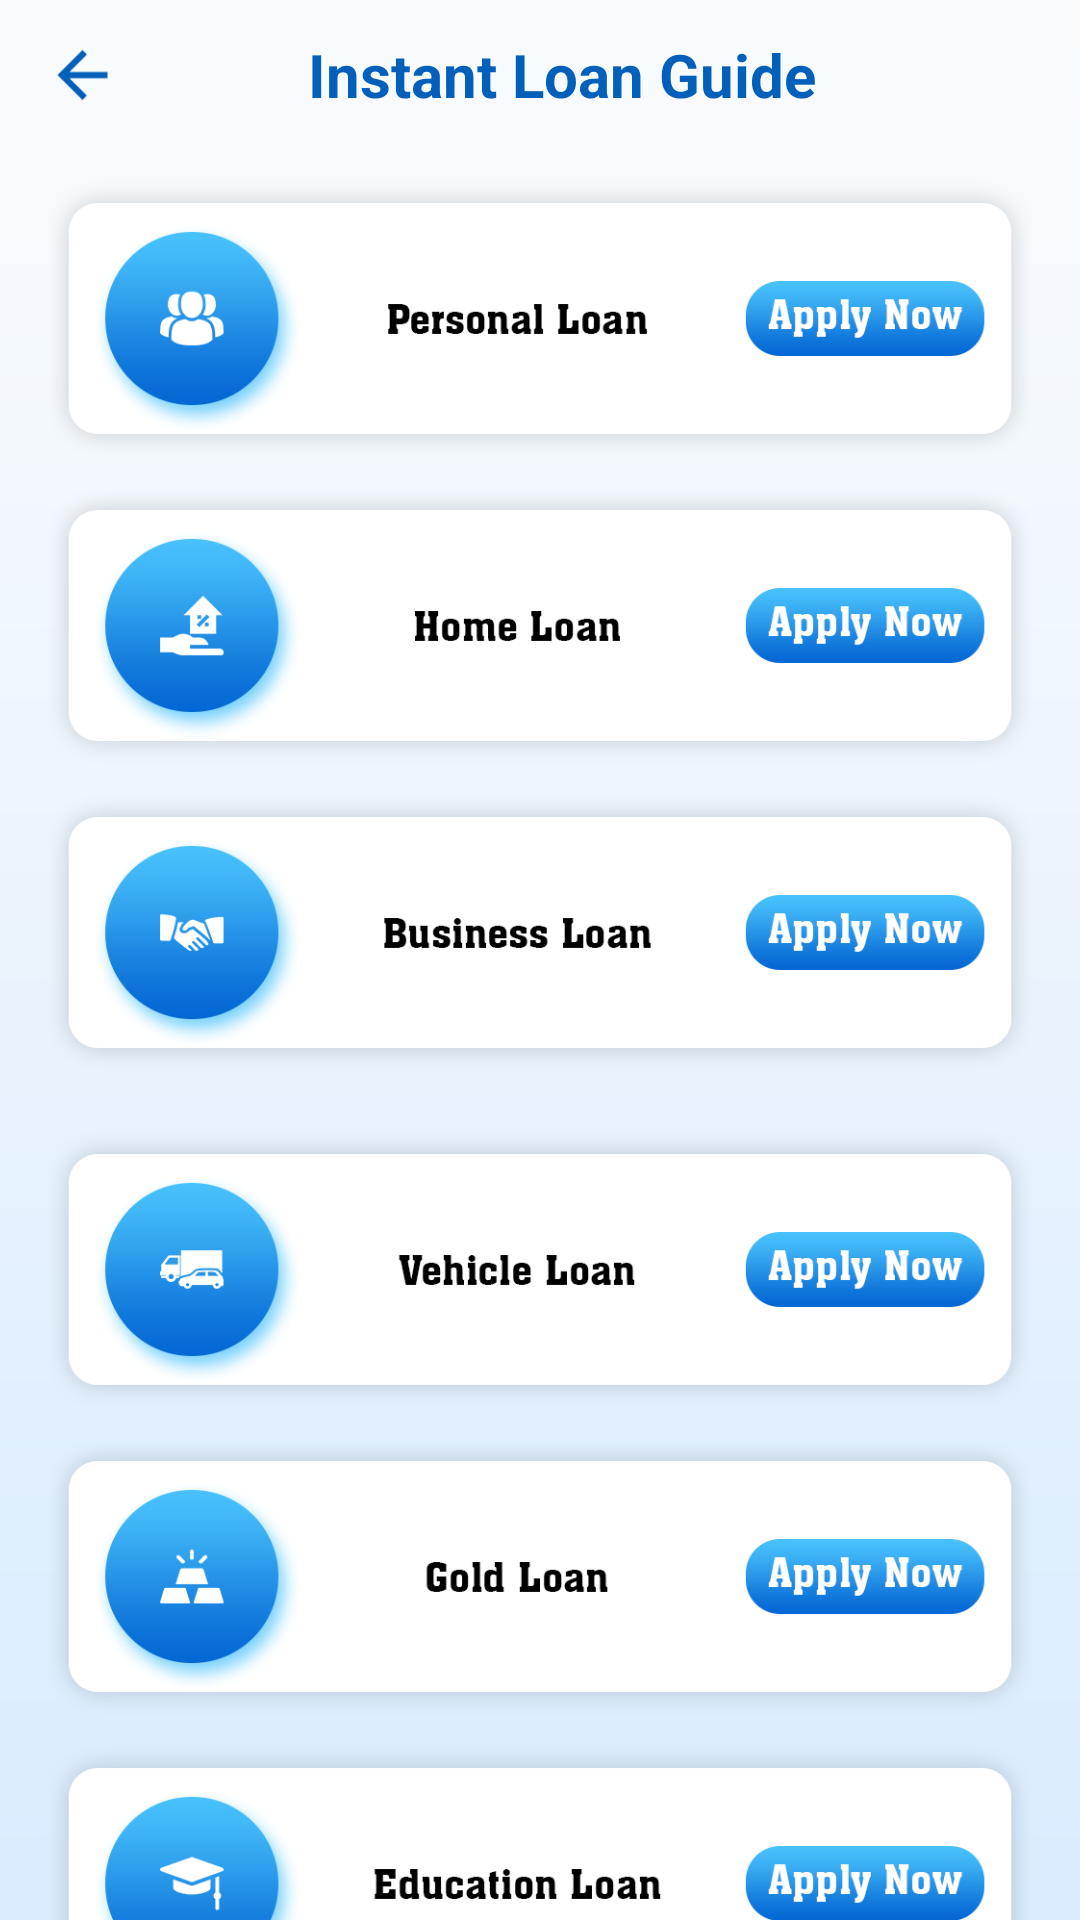

Point at icon controls on the screen. Image size 1080 × 1920, points as [x,y].
arrow back: [82,75]
